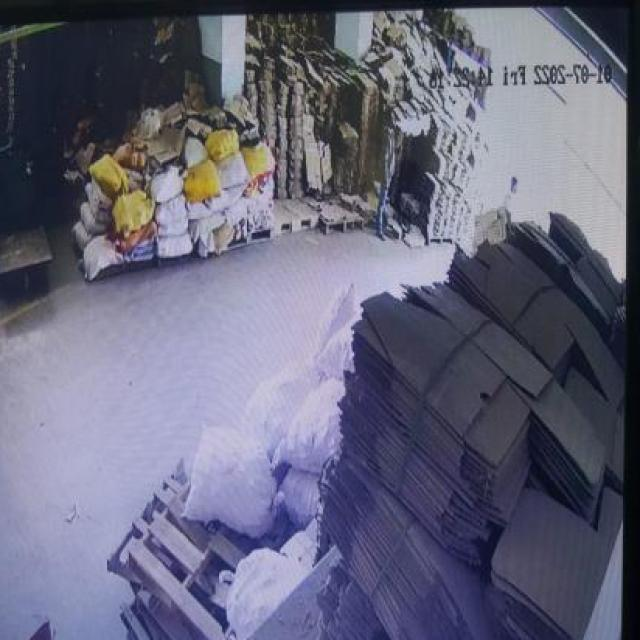fire: (398, 106, 432, 147)
